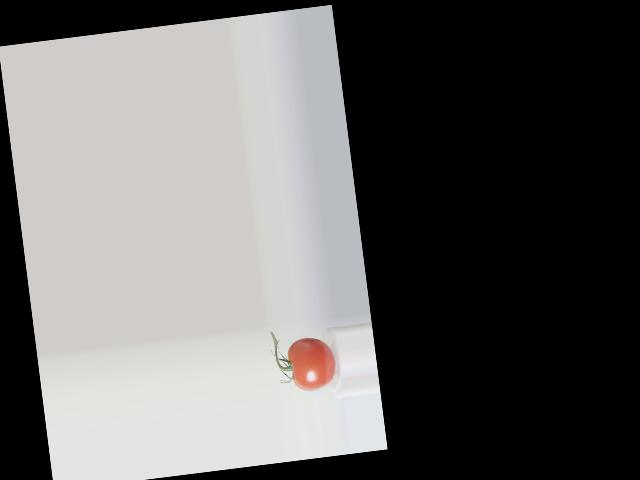tomato: (286, 334, 338, 393)
